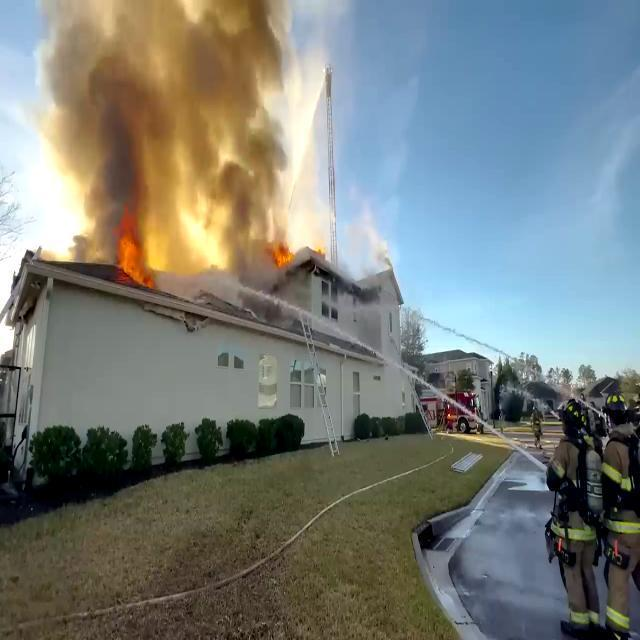Fire: (115, 231, 141, 283), (274, 244, 294, 278)
Smoke: (49, 0, 307, 294)
